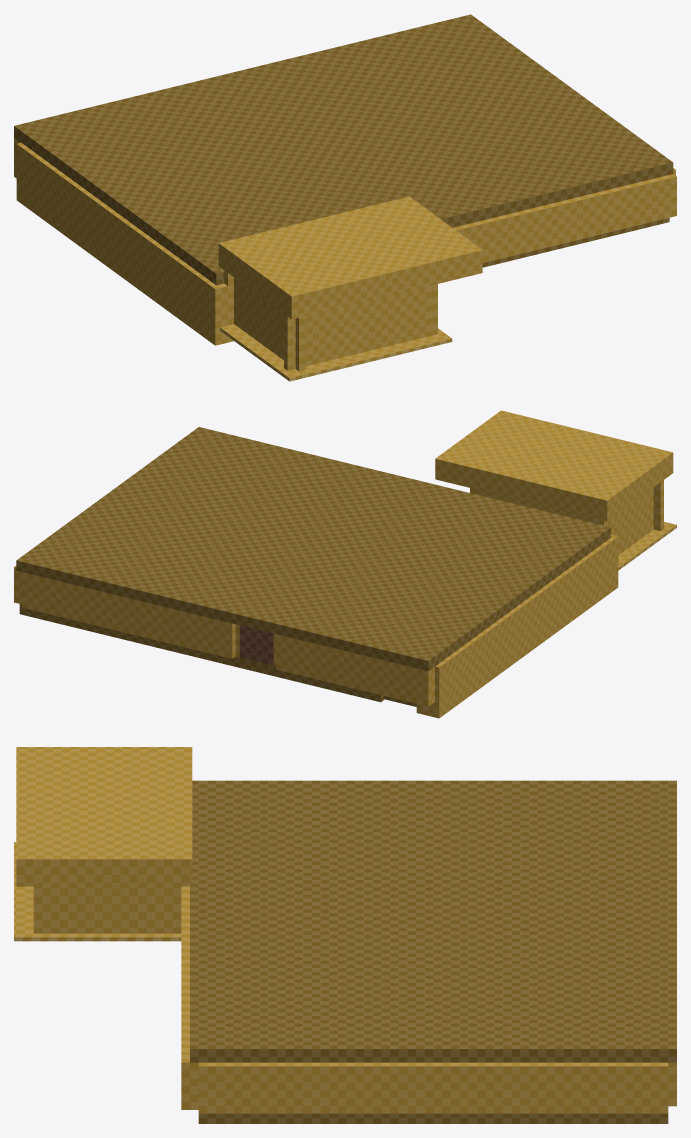
File: BagroomsTemple.gltf
3 renders of one model, top to bottom at view 1: azimuth 30°, elevation 25°; view 2: azimuth 150°, elevation 25°; view 3: azimuth 270°, elevation 25°, orthographic. The views are drawn at different scales.
Visible parts, largest first — view 1: Part (×8); view 2: Part (×13); view 3: Part (×7).
Part boxes in pixels (x1,y1,x2,y2): Part (×8): [14, 14, 676, 381]; Part (×13): [16, 410, 676, 718]; Part (×7): [14, 747, 676, 1123].
Size of the model in its own units: 299 by 60.29 by 305.
